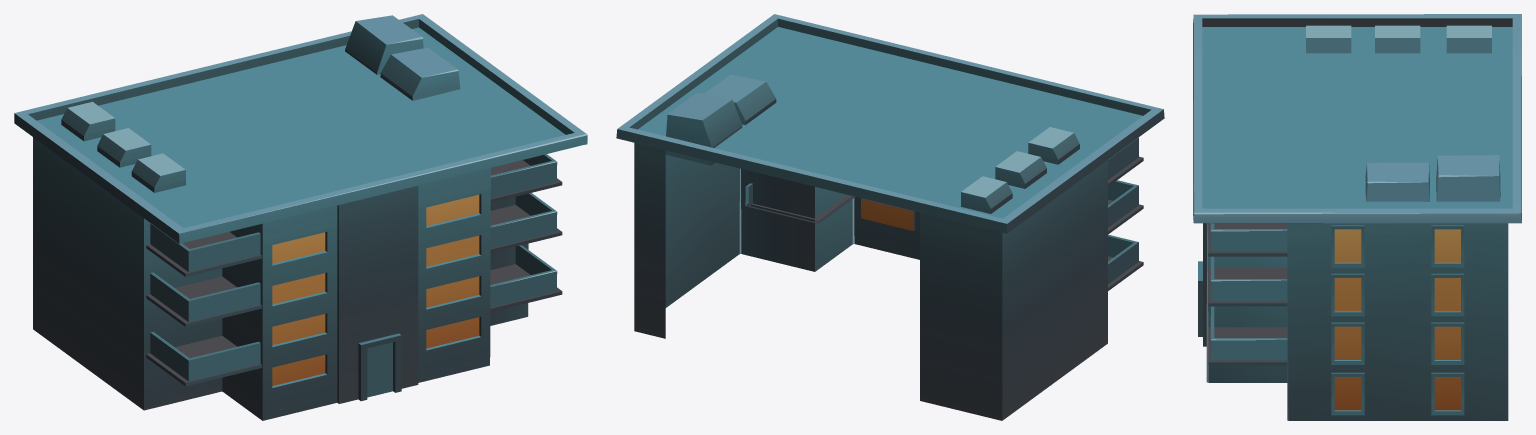
Rendered from SM_Building_3.fbx.
3 renders of one model, left to right at view 1: azimuth 30°, elevation 25°; view 2: azimuth 150°, elevation 25°; view 3: azimuth 270°, elevation 25°, orthographic. The views are drawn at different scales.
Parts seen in each view (by area): view 1: SM_Building_3; view 2: SM_Building_3; view 3: SM_Building_3.
Boxes of the visible parts, x1=… form: SM_Building_3: x1=14, y1=14, x2=587, y2=420; SM_Building_3: x1=616, y1=14, x2=1164, y2=420; SM_Building_3: x1=1193, y1=14, x2=1521, y2=420.
Size of the model in its own units: 1952 by 1066 by 1362.
